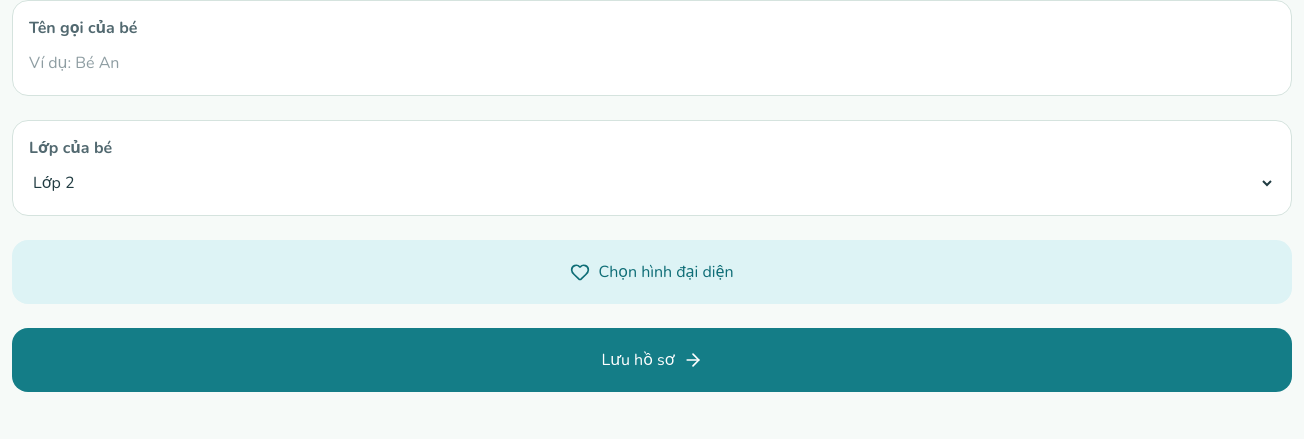
ChildProfileForm › validates the required alias at field level
The width and height of the screenshot is (1304, 439).
Click the button "Lưu hồ sơ".
click(652, 360)  # box left=12, top=328, right=1292, bottom=392
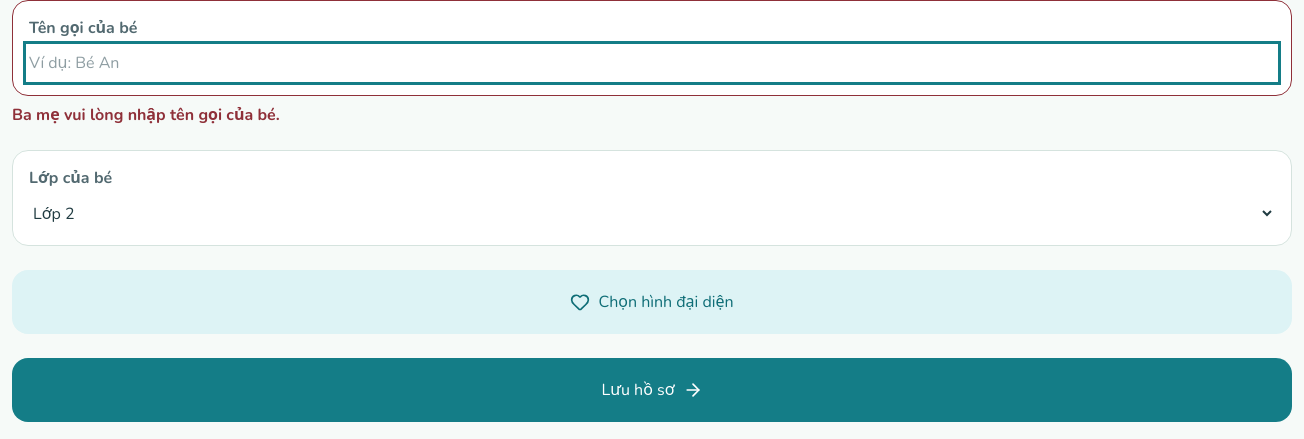
Expected: the text "Ba mẹ vui lòng nhập tên gọi của bé." is shown, left=12, top=104, right=280, bottom=126
